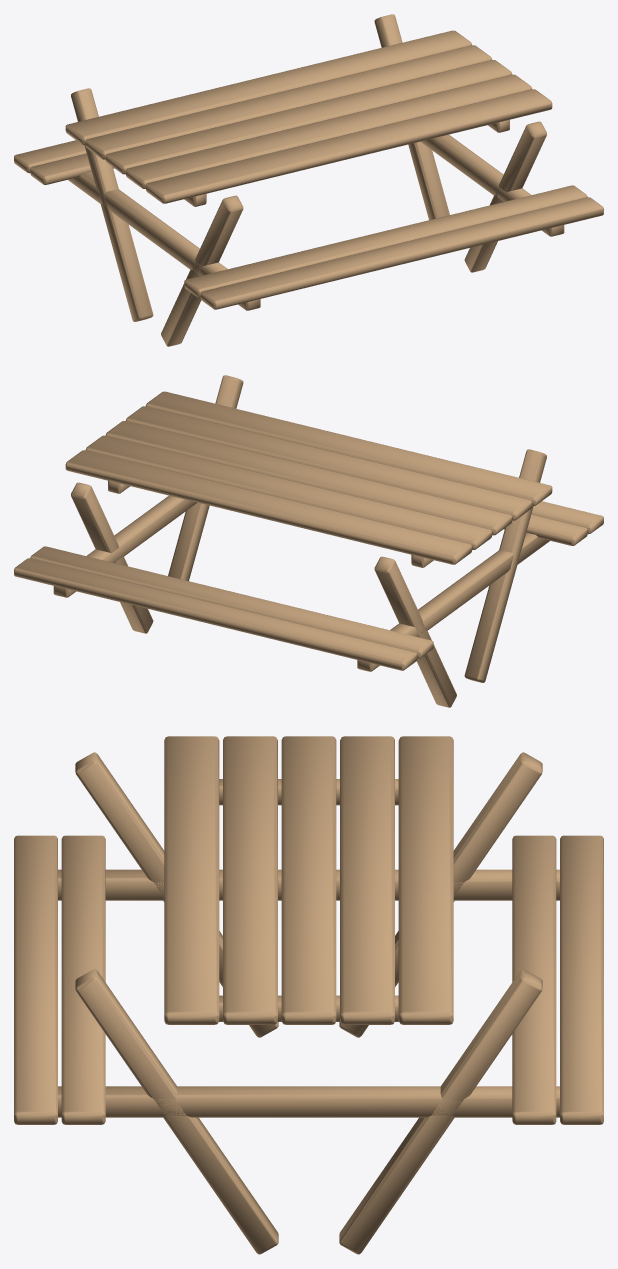
File: picnic_table.glb
The picture shows the model from 3 angles, top to bottom: view 1: azimuth 30°, elevation 25°; view 2: azimuth 150°, elevation 25°; view 3: azimuth 270°, elevation 25°; orthographic projection. The views are drawn at different scales.
Parts seen in each view (by area): view 1: Body; view 2: Body; view 3: Body.
Part boxes in pixels (x1,y1,x2,y2): Body: (14,14,603,346); Body: (14,375,603,707); Body: (14,736,603,1254).
Bounding box in the file's own units: 1.8 × 0.8347 × 1.61.
